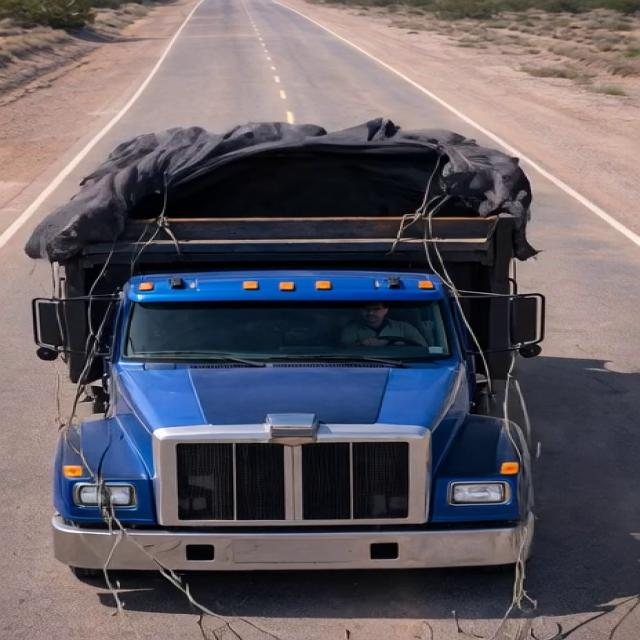Box: (41, 109, 537, 255)
Truck: (19, 76, 555, 591)
